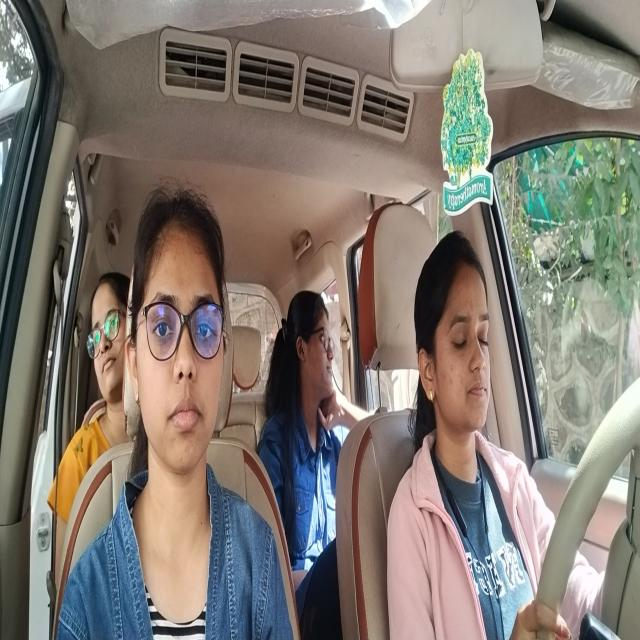drowsy: (418, 234, 504, 452)
person: (130, 188, 232, 476), (269, 258, 345, 446), (87, 274, 131, 428)
